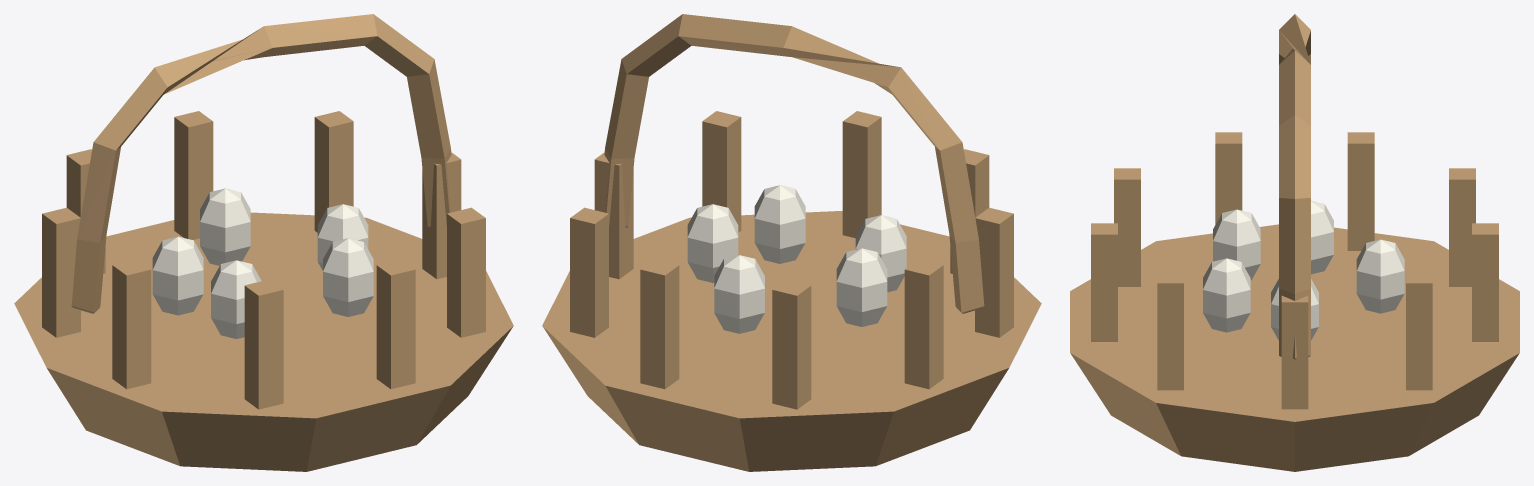
File: egg-basket.glb
The picture shows the model from 3 angles, left to right: view 1: azimuth 30°, elevation 25°; view 2: azimuth 150°, elevation 25°; view 3: azimuth 270°, elevation 25°; orthographic projection. The views are drawn at different scales.
Parts seen in each view (by area): view 1: egg-basket; view 2: egg-basket; view 3: egg-basket.
Part boxes in pixels (x1,y1,x2,y2): egg-basket: (14, 14, 513, 471); egg-basket: (542, 14, 1041, 471); egg-basket: (1070, 14, 1519, 471).
Bounding box in the file's own units: 0.44 × 0.3487 × 0.4185.
